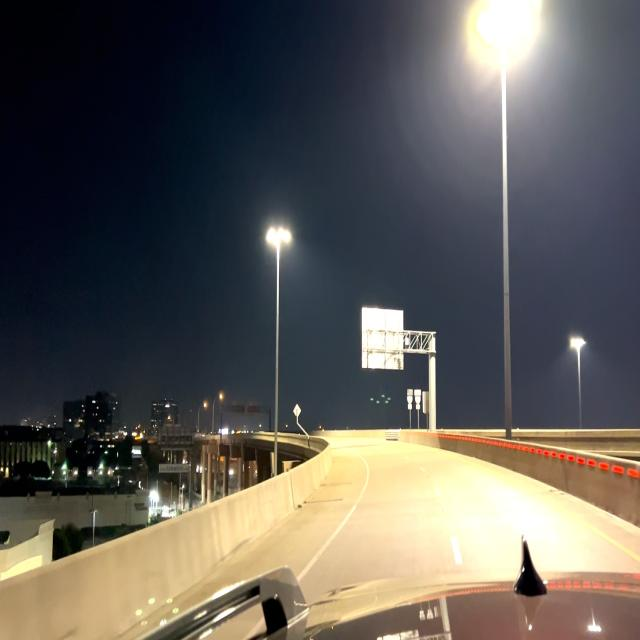back-of-sign: (364, 305, 404, 373)
